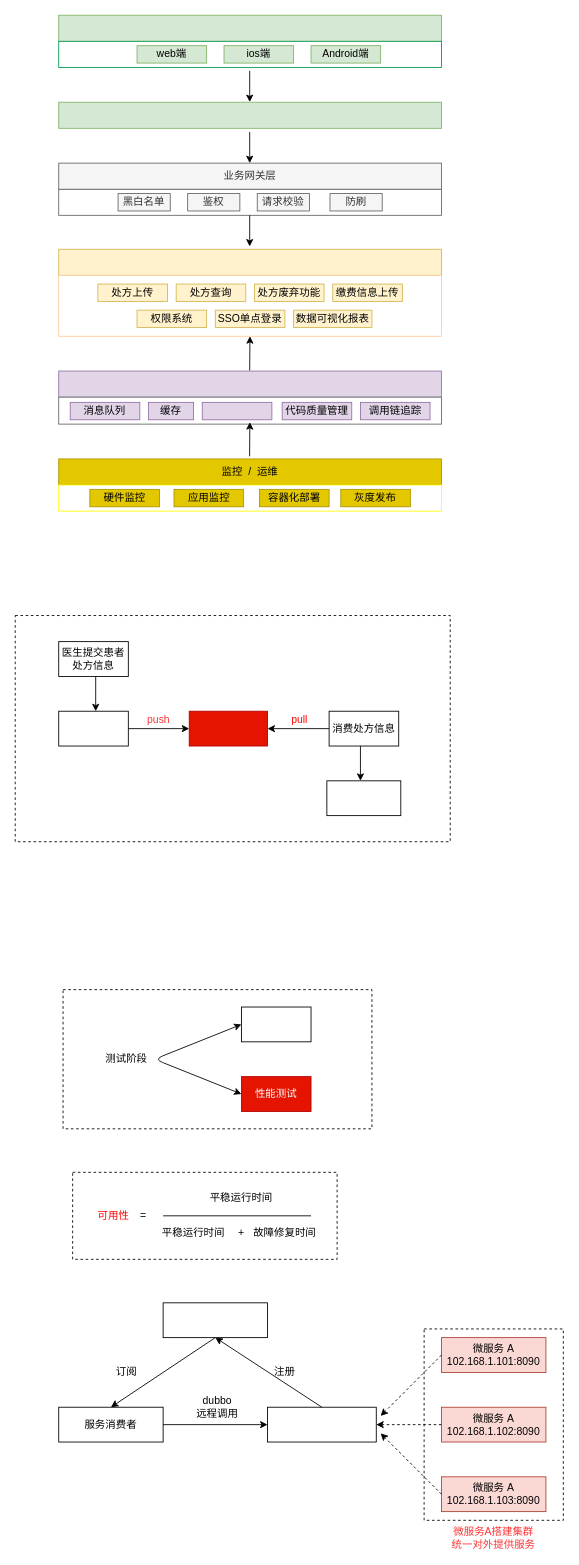
This 579x1565 diagram has some shape labels left out. The shapes that lost their labels are listed below. From the top down, each one's box as (x1, y1, x2, y2) in pixels, then its label:
(58, 14, 442, 41): 大前端(医院，药店，慢特病服务站)
(58, 101, 442, 128): Nginx负载均衡层
(58, 248, 442, 275): 核心业务层
(58, 370, 442, 397): 基础支撑层(中间件，可复用)
(201, 402, 272, 420): 定时任务
(58, 710, 128, 746): 请求到达核心业务层
(188, 710, 268, 746): 分布式消息系统
(326, 780, 401, 816): 存储层
(241, 1006, 311, 1042): 功能测试
(162, 1302, 268, 1338): Zookeeper集群
(267, 1406, 376, 1442): 服务提供者
